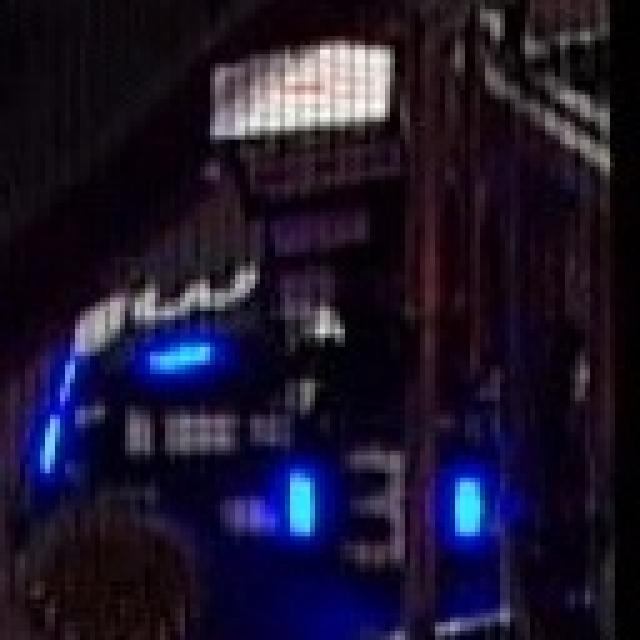B3: (278, 424, 488, 572), (115, 223, 265, 381)
